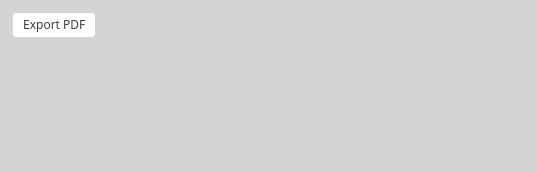
PdfExport › clears the notice once an export succeeds
This screenshot has width=537, height=172.
Click the button "Export PDF": (54, 25) [12, 12, 96, 38]
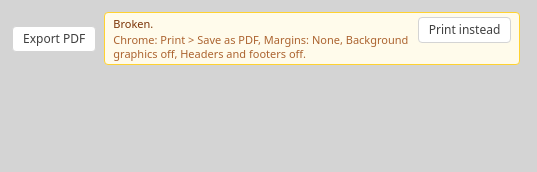
Check: the message is shown, box [104, 12, 520, 65]
Click the button "Export PDF": (54, 39) [12, 26, 96, 52]
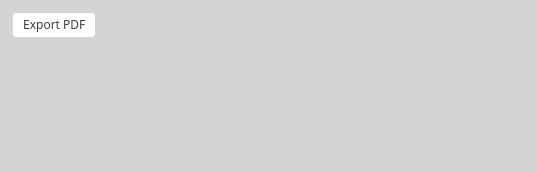
Check: the message is gone
